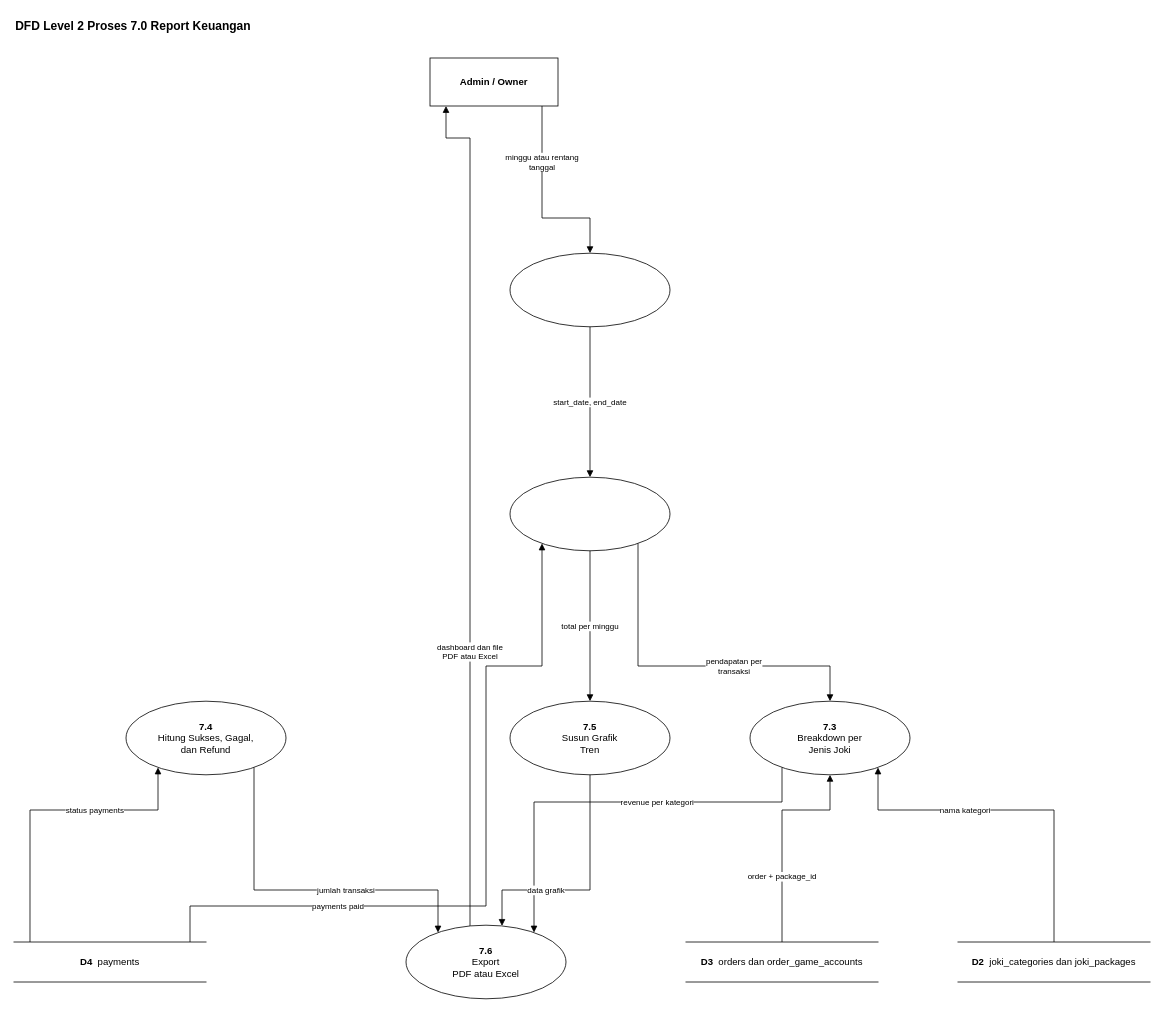
The diagram is 1164 pixels wide and 1013 high, and some of its shapes have lost their labels. The shapes that lost their labels are listed below. From the top down, each one's centre as x and y in pixels, then its label:
(589,289): 7.1 Tentukan Periode Mingguan
(589,513): 7.2 Agregasi Pendapatan
